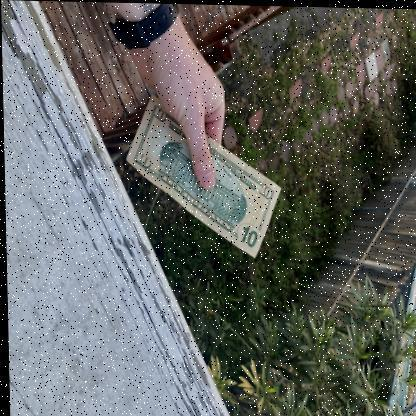ten-back: (124, 93, 280, 257)
